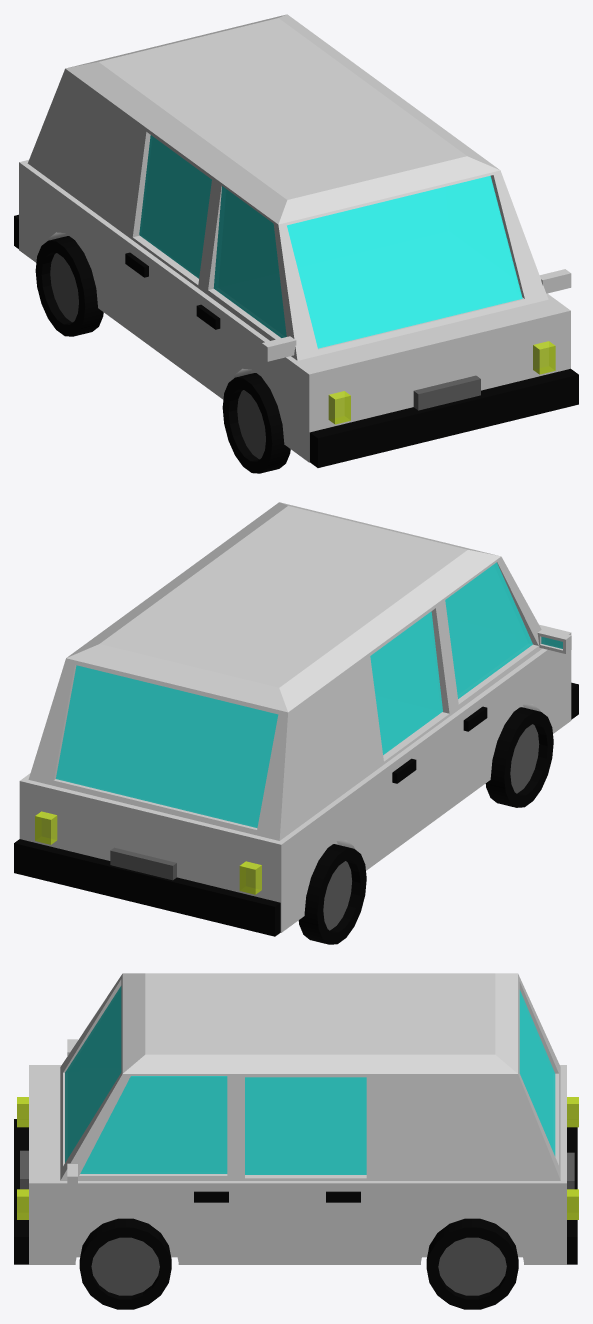
Rendered from lowpoly car3 white.fbx.
3 views of the same model, one above another, from view 1: azimuth 30°, elevation 25°; view 2: azimuth 150°, elevation 25°; view 3: azimuth 270°, elevation 25° (orthographic). The views are drawn at different scales.
Parts seen in each view (by area): view 1: Box051, Box064, Box053, Box062, Box069, Cylinder024, Cylinder032, Box054, Box055, Box056, Box066, Box186; view 2: Box051, Box188, Box060, Box062, Box069, Cylinder032, Cylinder024, Box057, Box058, Box059, Box066; view 3: Box051, Box065, Box070, Cylinder031, Cylinder033, Box064, Box188, Box053, Box060.
Part boxes in pixels (bbox=[...]): Box051: bbox=[19, 14, 570, 462]; Box064: bbox=[287, 175, 522, 348]; Box053: bbox=[309, 368, 578, 467]; Box062: bbox=[213, 186, 286, 337]; Box069: bbox=[139, 135, 211, 278]; Cylinder024: bbox=[35, 236, 103, 336]; Cylinder032: bbox=[222, 373, 290, 473]; Box054: bbox=[413, 375, 480, 410]; Box055: bbox=[328, 391, 350, 424]; Box056: bbox=[533, 341, 555, 374]; Box066: bbox=[262, 336, 296, 361]; Box186: bbox=[539, 269, 571, 293]; Box051: bbox=[19, 502, 571, 932]; Box188: bbox=[56, 665, 278, 827]; Box060: bbox=[14, 839, 280, 936]; Box062: bbox=[445, 562, 532, 698]; Box069: bbox=[370, 611, 442, 754]; Cylinder032: bbox=[485, 707, 553, 807]; Cylinder024: bbox=[298, 844, 366, 944]; Box057: bbox=[110, 847, 176, 880]; Box058: bbox=[239, 861, 261, 894]; Box059: bbox=[35, 811, 57, 844]; Box066: bbox=[537, 628, 571, 653]; Box051: bbox=[29, 973, 566, 1264]; Box065: bbox=[80, 1076, 227, 1173]; Box070: bbox=[245, 1077, 366, 1174]; Cylinder031: bbox=[426, 1218, 518, 1309]; Cylinder033: bbox=[79, 1218, 171, 1309]; Box064: bbox=[65, 986, 121, 1162]; Box188: bbox=[519, 990, 555, 1156]; Box053: bbox=[14, 1119, 28, 1264]; Box060: bbox=[567, 1127, 577, 1264].
Size of the model in its own units: 59.78 by 47.02 by 104.
